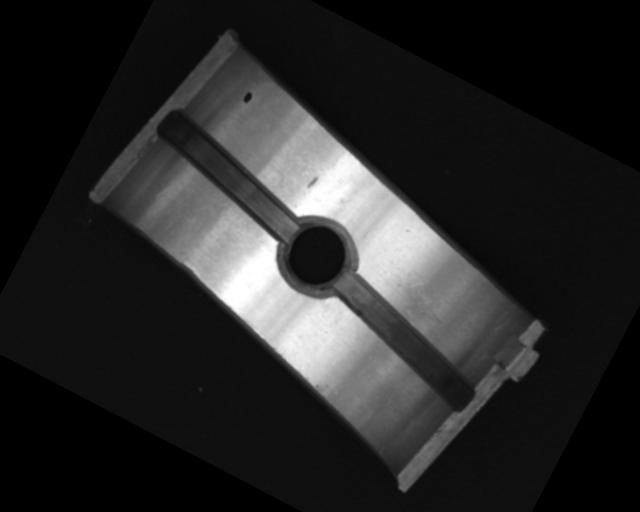blot: (239, 88, 255, 106)
bruise: (305, 172, 319, 190)
gap: (310, 266, 499, 412), (138, 105, 320, 244)
hole: (266, 203, 370, 306)
scratch: (378, 265, 467, 336)
